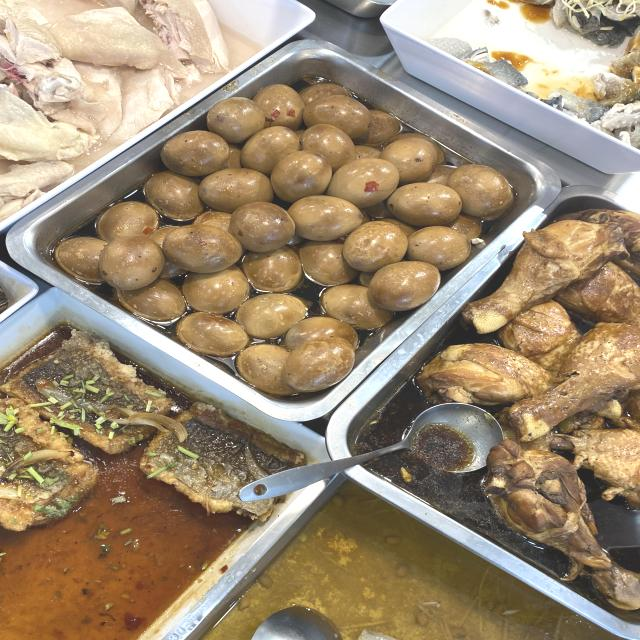braised egg: (170, 143, 425, 297)
